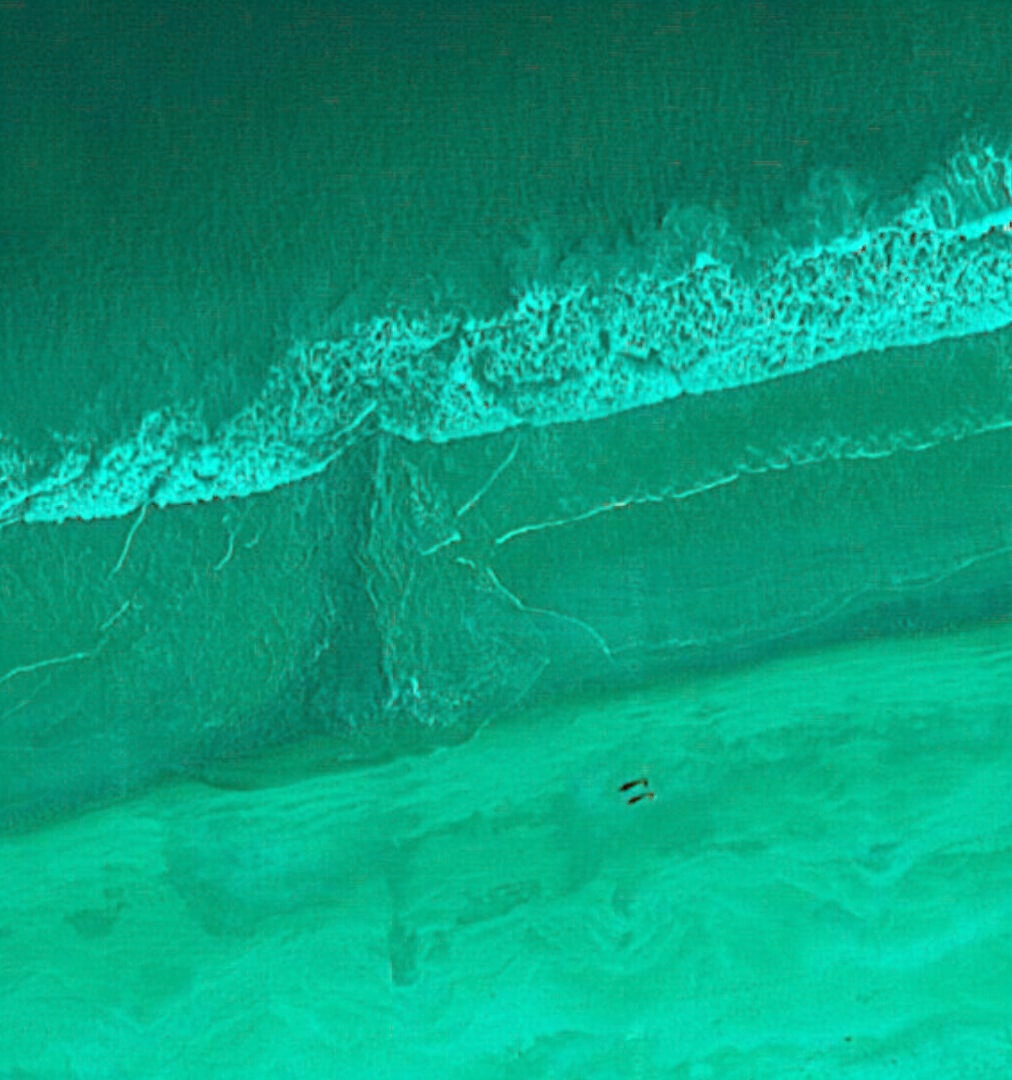rip_current: (222, 258, 435, 606)
